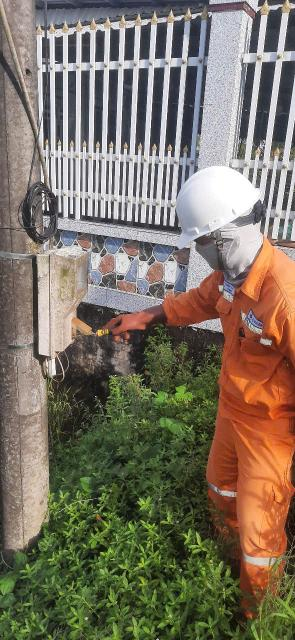gloves: (87, 294, 185, 340)
helmet: (145, 156, 288, 264)
